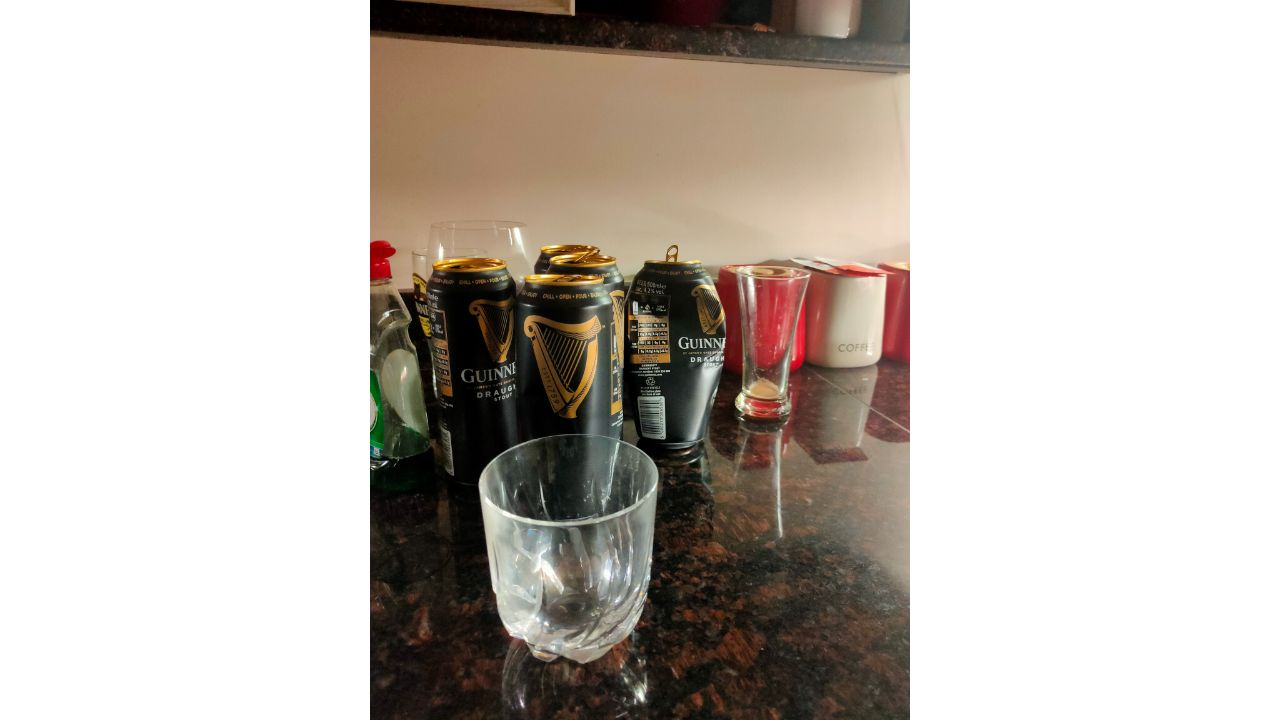Can: (516, 276, 613, 525), (428, 256, 520, 493), (625, 247, 725, 453), (544, 256, 625, 452), (532, 244, 601, 295)
